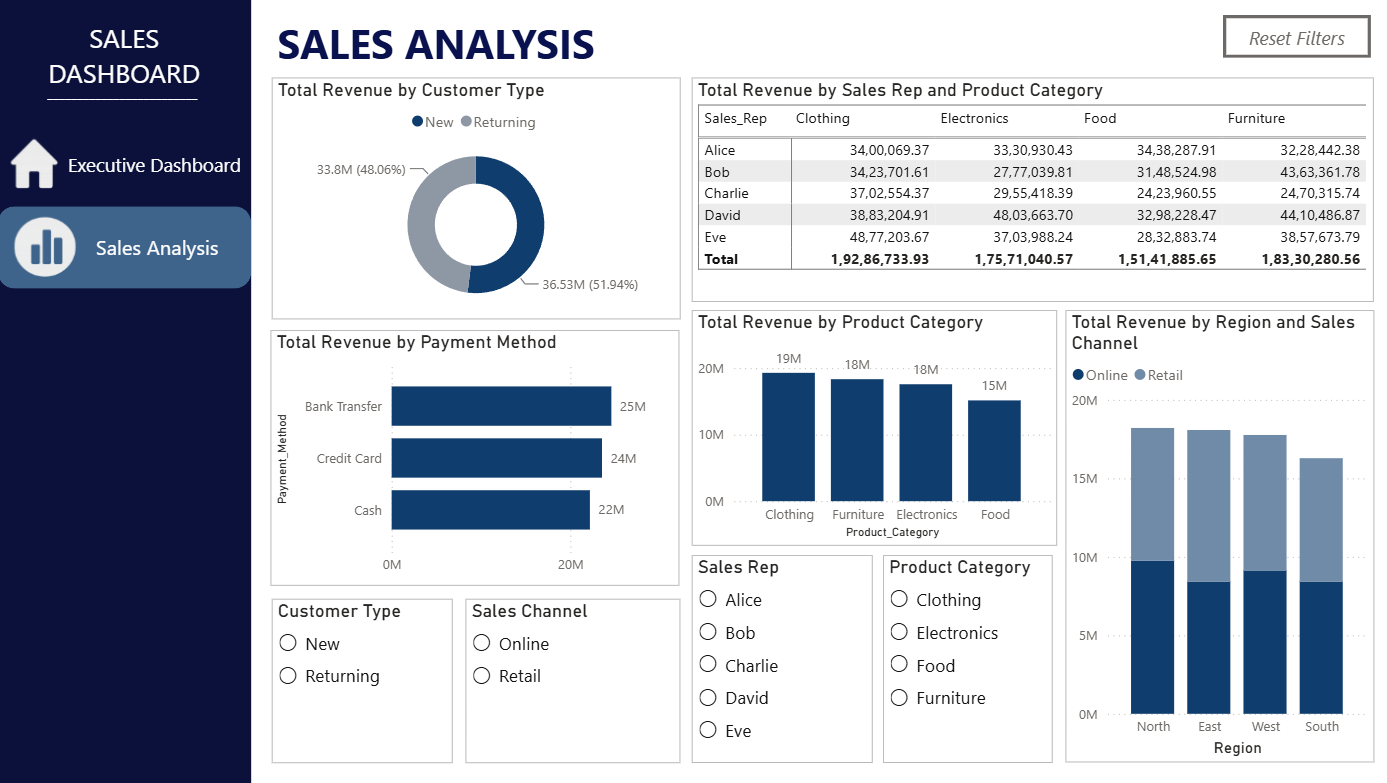

What the dashboard file says about the page in this screenshot:
{"tool":"powerbi","page":{"name":"Sales Analysis","canvas":[1280,720],"ordinal":1},"visuals":[{"type":"donutChart","title":"Total Revenue by Customer Type","fields":{"Category":["sales_data.Customer_Type"],"Y":["sales_data.Total Revenue"]},"box":[251.2,71.2,376.2,222.5],"z":0},{"type":"clusteredBarChart","title":"Total Revenue by Payment Method","fields":{"Category":["sales_data.Payment_Method"],"Y":["sales_data.Total Revenue"]},"box":[251,303,376.2,235],"z":1000},{"type":"pivotTable","title":"Total Revenue by Sales Rep and Product Category","fields":{"Rows":["sales_data.Sales_Rep"],"Columns":["sales_data.Product_Category"],"Values":["sales_data.Total Revenue"]},"box":[637.5,71.2,627.5,206.2],"z":2000},{"type":"listSlicer","title":"Sales Rep","fields":{"Values":["sales_data.Sales_Rep"]},"box":[637.5,510,166.2,191.2],"z":3000},{"type":"listSlicer","title":"Customer Type","fields":{"Values":["sales_data.Customer_Type"]},"box":[251.2,550,166.2,151.2],"z":4000},{"type":"shape","box":[0,0,232.9,720],"z":5000},{"type":"actionButton","box":[0,190,232.9,75.7],"z":6000},{"type":"actionButton","box":[0,114.3,232.9,75.7],"z":7000},{"type":"listSlicer","title":"Sales Channel","fields":{"Values":["sales_data.Sales_Channel"]},"box":[430,550,197.5,151],"z":8000},{"type":"columnChart","title":"Total Revenue by Region and Sales Channel","fields":{"Category":["sales_data.Region"],"Y":["sales_data.Total Revenue"],"Series":["sales_data.Sales_Channel"]},"box":[981.2,285,283.8,416.2],"z":9000},{"type":"clusteredColumnChart","title":"Total Revenue by Product Category","fields":{"Category":["sales_data.Product_Category"],"Y":["sales_data.Total Revenue"]},"box":[637.5,285,336.2,217],"z":10000},{"type":"listSlicer","title":"Product Category","fields":{"Values":["sales_data.Product_Category"]},"box":[813.8,510,156.2,191.2],"z":11000},{"type":"textbox","box":[40.4,13.5,151.6,77],"z":12000},{"type":"textbox","box":[40,71.1,165.6,37.8],"z":13000},{"type":"textbox","box":[251.2,8.8,470,71.2],"z":14000},{"type":"actionButton","box":[1126.7,14,136,39.5],"z":14001}]}

Visuals, with their boxes on the page's 1280x720 design canvas (x1, y1, x2, y2). These are canvas units, not pixel positions in the 1387x783 screenshot, which may show the page scaled, cropped or inside an application window:
"Total Revenue by Customer Type" donutChart: select_region(251, 71, 627, 294)
"Total Revenue by Payment Method" clusteredBarChart: select_region(251, 303, 627, 538)
"Total Revenue by Sales Rep and Product Category" pivotTable: select_region(638, 71, 1265, 277)
"Sales Rep" listSlicer: select_region(638, 510, 804, 701)
"Customer Type" listSlicer: select_region(251, 550, 417, 701)
shape: select_region(0, 0, 233, 720)
actionButton: select_region(0, 190, 233, 266)
actionButton: select_region(0, 114, 233, 190)
"Sales Channel" listSlicer: select_region(430, 550, 628, 701)
"Total Revenue by Region and Sales Channel" columnChart: select_region(981, 285, 1265, 701)
"Total Revenue by Product Category" clusteredColumnChart: select_region(638, 285, 974, 502)
"Product Category" listSlicer: select_region(814, 510, 970, 701)
textbox: select_region(40, 14, 192, 90)
textbox: select_region(40, 71, 206, 109)
textbox: select_region(251, 9, 721, 80)
actionButton: select_region(1127, 14, 1263, 54)
